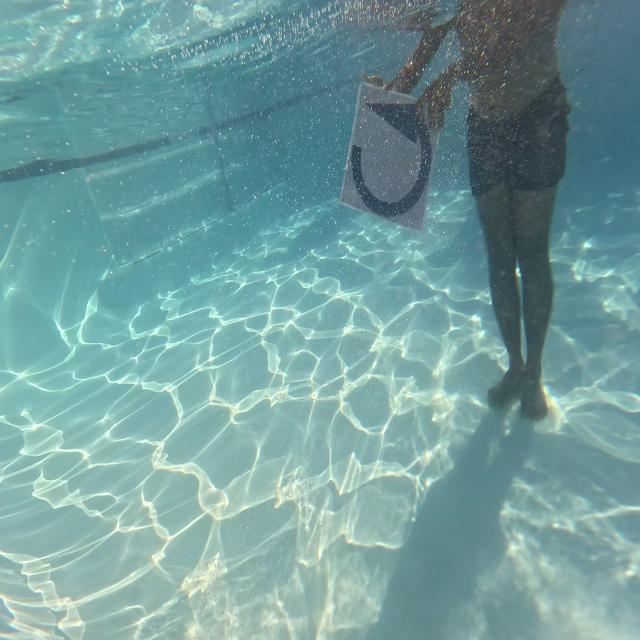blue_side: (348, 81, 432, 231)
